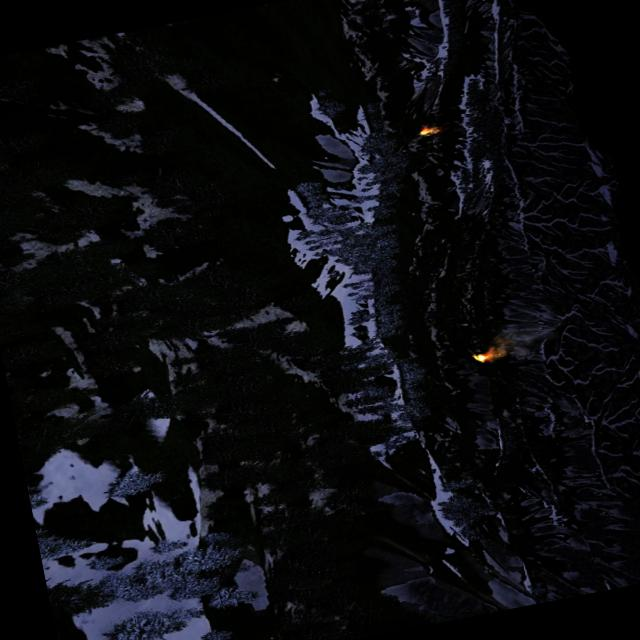fire: (417, 125, 440, 136), (472, 352, 489, 364)
smoke: (487, 316, 557, 362)
